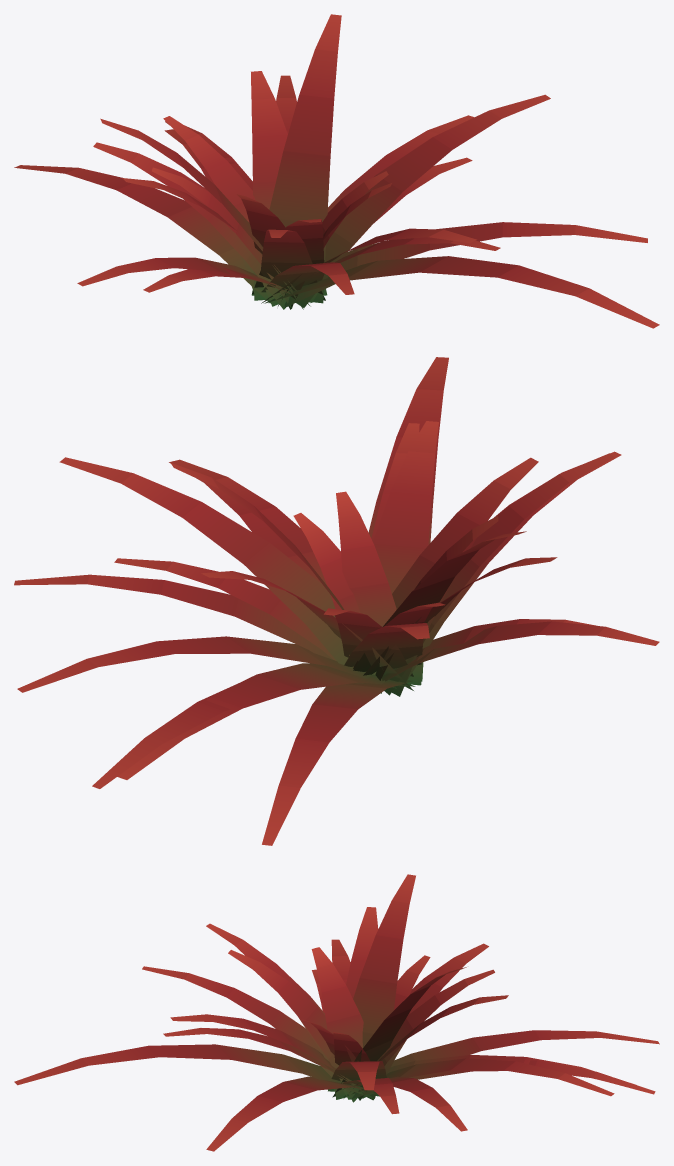
The model's file is redplant.glb.
3 views of the same model, one above another, from view 1: azimuth 30°, elevation 25°; view 2: azimuth 150°, elevation 25°; view 3: azimuth 270°, elevation 25° (orthographic). The views are drawn at different scales.
Visible parts, largest first — view 1: redplant0, redplant1; view 2: redplant1, redplant0; view 3: redplant0, redplant1.
Boxes of the visible parts, x1,y1,x2,y2 form: redplant0: (93, 14, 659, 328); redplant1: (14, 75, 500, 309); redplant1: (14, 423, 659, 845); redplant0: (59, 357, 557, 779); redplant0: (14, 874, 635, 1151); redplant1: (142, 923, 659, 1131).
Bounding box in the file's own units: 0.9252 × 0.3692 × 1.29.
